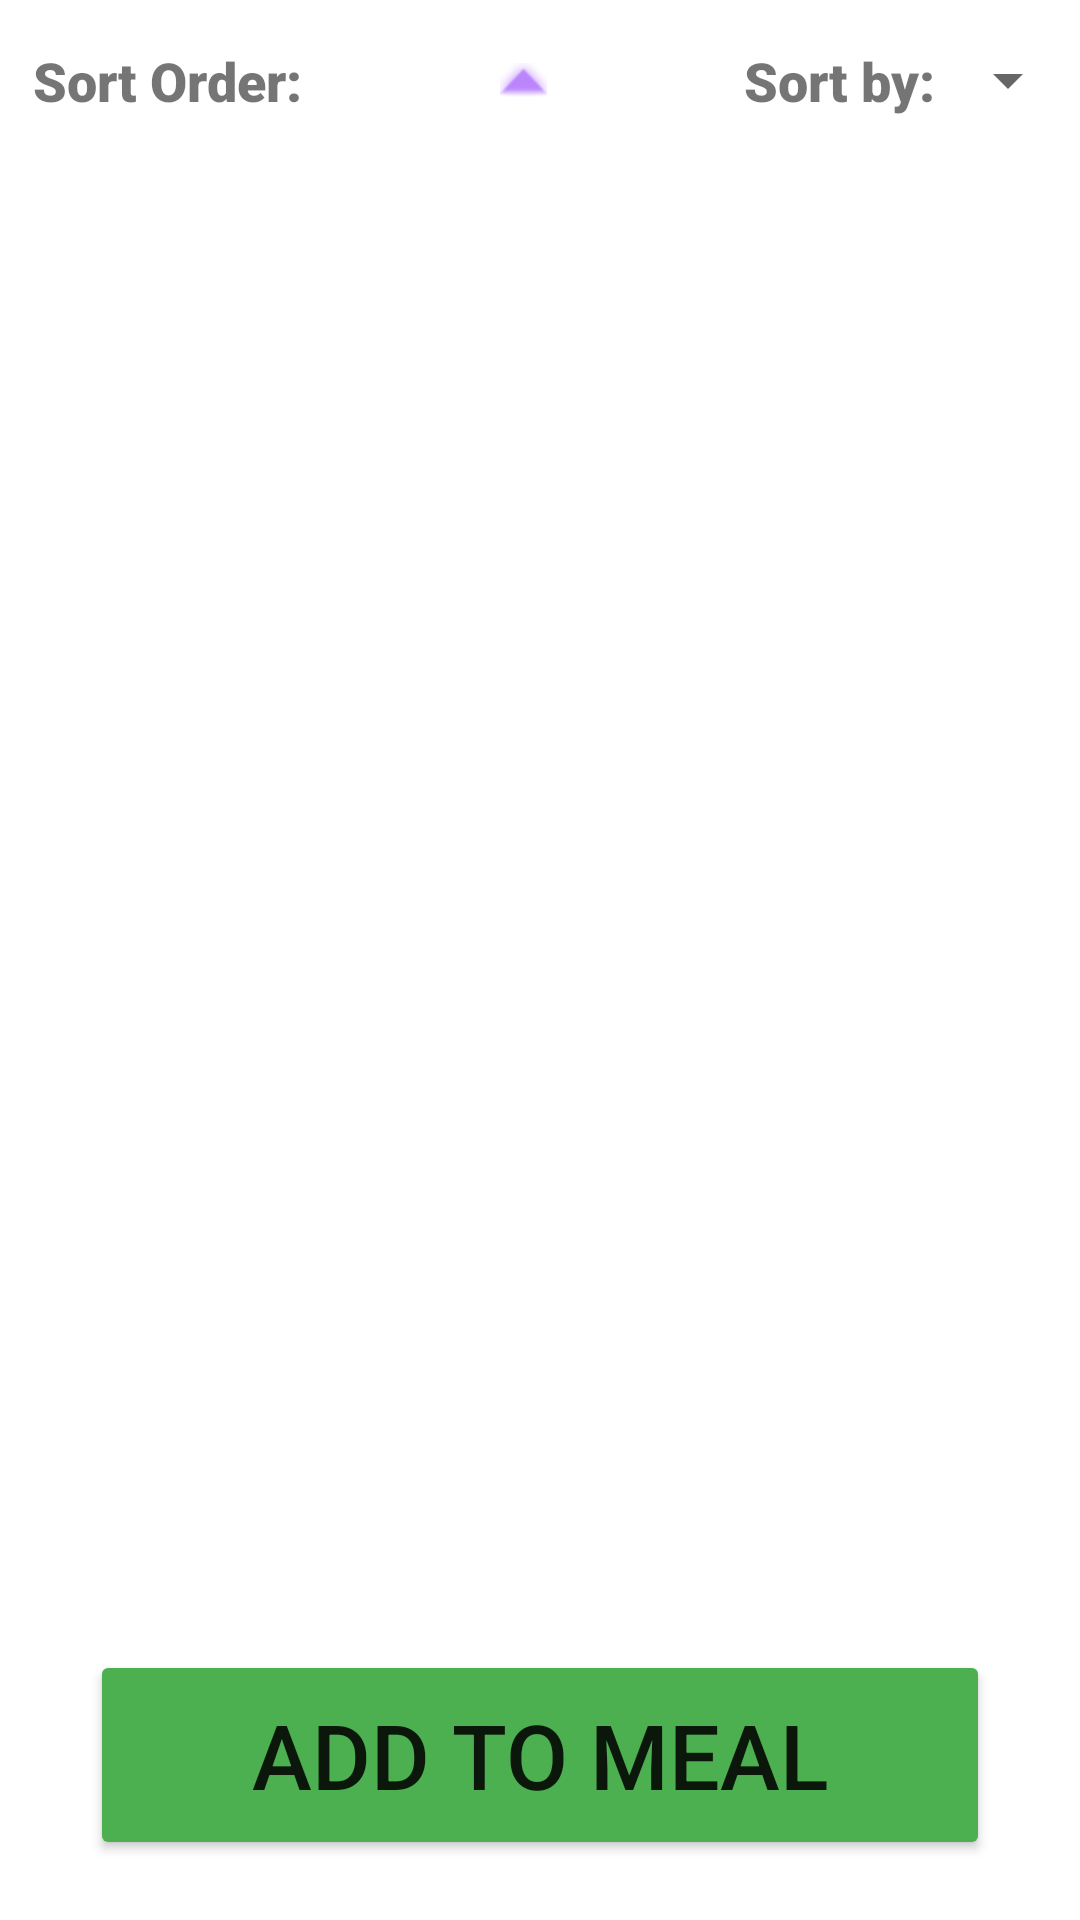

Screen size 1080×1920. Icon name, then its center in pixels as (x,y):
arrow up float: (523,81)
